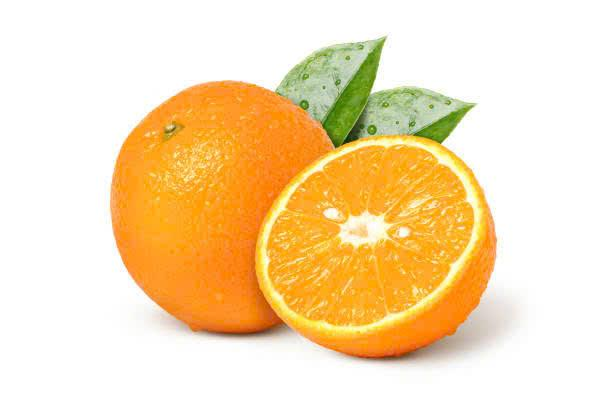orange: (254, 133, 502, 363), (109, 70, 282, 340)
